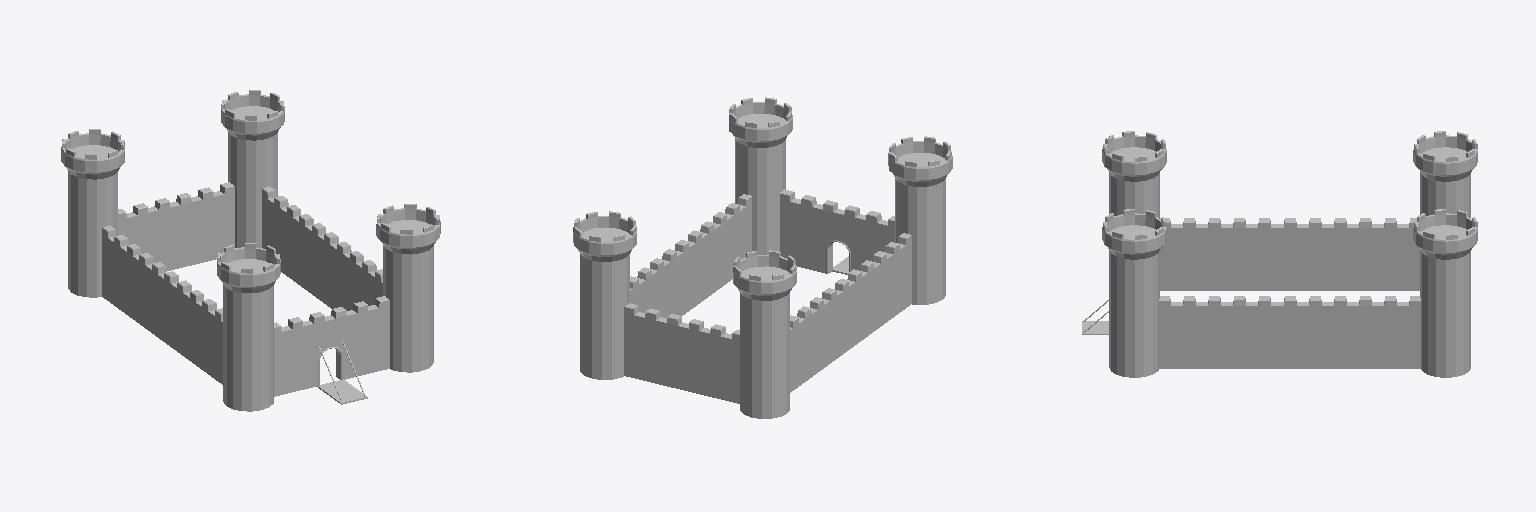
The model's file is Castle.obj.
3 views of the same model, side by side, from view 1: azimuth 30°, elevation 25°; view 2: azimuth 150°, elevation 25°; view 3: azimuth 270°, elevation 25° (orthographic).
Parts seen in each view (by area): view 1: LongWall_Cube.001, Tower_Cylinder, Tower2_Cylinder.001, Wall_Cube, LongWall2_Cube.003, Tower3_Cylinder.002, Wall2_Cube.005, Tower4_Cylinder.003, Elevator_Bridge_Cube.007; view 2: LongWall_Cube.001, Tower3_Cylinder.002, Wall2_Cube.005, Tower4_Cylinder.003, LongWall2_Cube.003, Tower_Cylinder, Tower2_Cylinder.001, Wall_Cube; view 3: LongWall2_Cube.003, LongWall_Cube.001, Tower2_Cylinder.001, Tower4_Cylinder.003, Tower_Cylinder, Tower3_Cylinder.002.
Part boxes in pixels (x1,y1,x2,y2): LongWall_Cube.001: (102,225,222,384); Tower_Cylinder: (217,243,280,411); Tower2_Cylinder.001: (376,204,440,372); Wall_Cube: (274,296,389,396); LongWall2_Cube.003: (262,186,382,310); Tower3_Cylinder.002: (61,129,124,297); Wall2_Cube.005: (118,182,234,271); Tower4_Cylinder.003: (221,90,284,247); Elevator_Bridge_Cube.007: (317,340,367,404); LongWall_Cube.001: (790,233,911,392); Tower3_Cylinder.002: (733,250,796,418); Wall2_Cube.005: (624,303,739,403); Tower4_Cylinder.003: (573,211,636,379); LongWall2_Cube.003: (630,194,751,317); Tower_Cylinder: (888,136,952,304); Tower2_Cylinder.001: (729,97,792,254); Wall_Cube: (780,189,894,273); LongWall2_Cube.003: (1159,296,1420,368); LongWall_Cube.001: (1160,218,1419,290); Tower2_Cylinder.001: (1102,209,1166,377); Tower4_Cylinder.003: (1413,209,1477,377); Tower_Cylinder: (1102,131,1166,218); Tower3_Cylinder.002: (1413,131,1477,217).
Size of the model in its own units: 7.16 by 4.63 by 11.4.